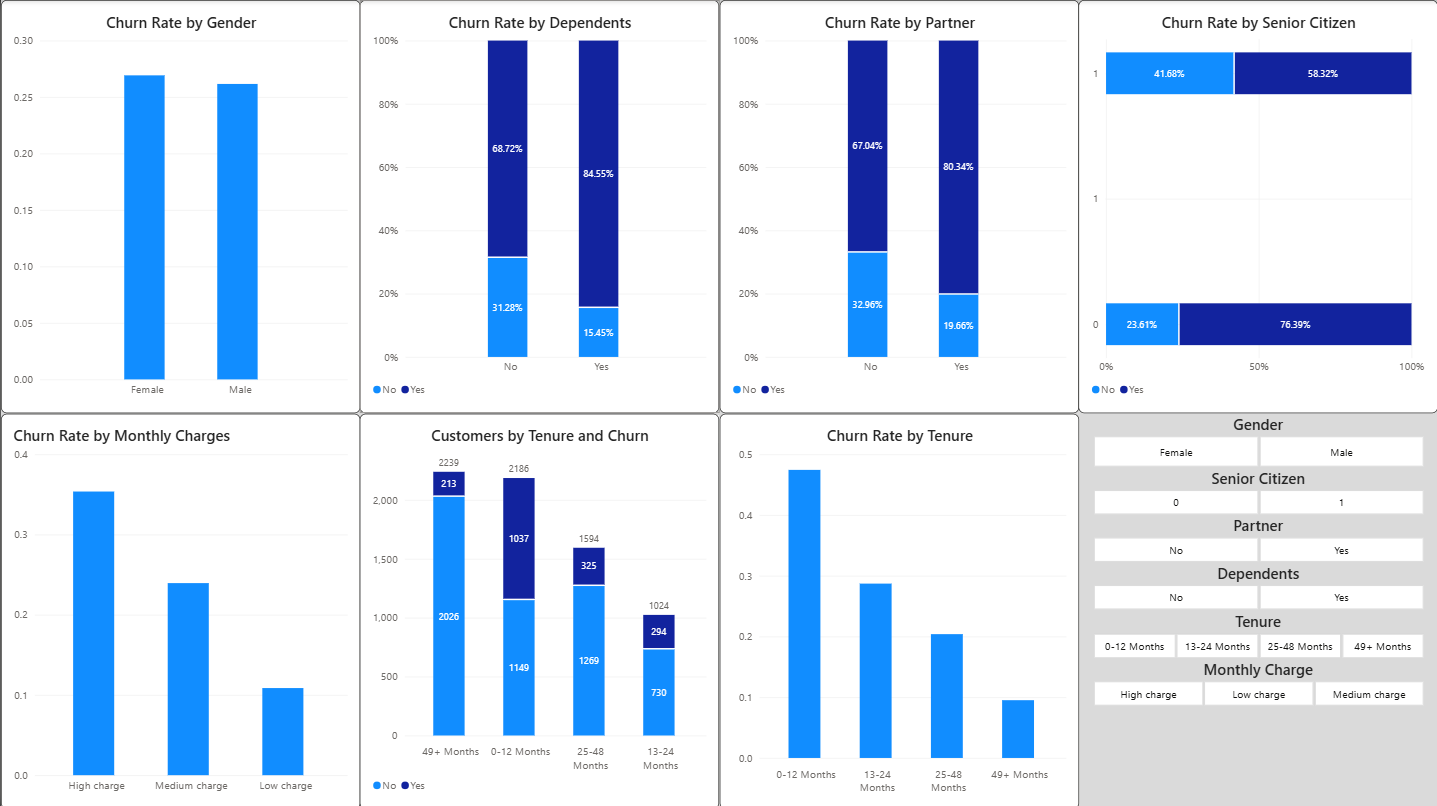

What the dashboard file says about the page in this screenshot:
{"tool":"powerbi","page":{"name":"Customer Segmentation","canvas":[1920,1080],"ordinal":1},"visuals":[{"type":"columnChart","title":"Churn Rate by Gender","fields":{"Category":["dim_customer.gender"],"Y":["customer_churn_features.churn_rate"]},"box":[0,0,480,552],"z":0},{"type":"hundredPercentStackedColumnChart","title":"Churn Rate by Dependents","fields":{"Category":["dim_customer.dependents"],"Series":["customer_churn_features.churn"],"Y":["customer_churn_features.churn_rate"]},"box":[480,0,480,552],"z":1000},{"type":"hundredPercentStackedColumnChart","title":"Churn Rate by Partner","fields":{"Category":["dim_customer.partner"],"Series":["customer_churn_features.churn"],"Y":["customer_churn_features.churn_rate"]},"box":[960,0,480,552],"z":2000},{"type":"hundredPercentStackedBarChart","title":"Churn Rate by Senior Citizen","fields":{"Category":["dim_customer.senior_citizen"],"Series":["customer_churn_features.churn"],"Y":["customer_churn_features.churn_rate"]},"box":[1440,0,480,552],"z":3000},{"type":"clusteredColumnChart","title":"Churn Rate by Monthly Charges","fields":{"Category":["customer_churn_features.monthly_charge_band"],"Y":["customer_churn_features.churn_rate"]},"box":[0,552,480,528],"z":4000},{"type":"clusteredColumnChart","title":"Churn Rate by Tenure","fields":{"Category":["customer_churn_features.tenure_group"],"Y":["customer_churn_features.churn_rate"]},"box":[960,552,480,528],"z":5000},{"type":"columnChart","title":"Customers by Tenure and Churn","fields":{"Category":["customer_churn_features.tenure_group"],"Series":["customer_churn_features.churn"],"Y":["CountNonNull(customer_churn_features.customer_id)"]},"box":[480,552,480,528],"z":6000},{"type":"slicer","title":"Gender","fields":{"Values":["dim_customer.gender"]},"box":[1440,552,480,72],"z":7000},{"type":"slicer","title":"Senior Citizen","fields":{"Values":["dim_customer.senior_citizen"]},"box":[1440,624,480,64],"z":8000},{"type":"slicer","title":"Partner","fields":{"Values":["dim_customer.partner"]},"box":[1440,688,480,64],"z":9000},{"type":"slicer","title":"Dependents","fields":{"Values":["dim_customer.dependents"]},"box":[1440,752,480,64],"z":10000},{"type":"slicer","title":"Tenure","fields":{"Values":["customer_churn_features.tenure_group"]},"box":[1440,816,480,64],"z":11000},{"type":"slicer","title":"Monthly Charge","fields":{"Values":["customer_churn_features.monthly_charge_band"]},"box":[1440,880,480,64],"z":12000}]}

Visuals, with their boxes in screenshot pixels (x1, y1, x2, y2), scaled from the page's 1920x1080 canvas onto the 1437x806 screenshot:
"Churn Rate by Gender" columnChart: x1=0, y1=0, x2=359, y2=412
"Churn Rate by Dependents" hundredPercentStackedColumnChart: x1=359, y1=0, x2=718, y2=412
"Churn Rate by Partner" hundredPercentStackedColumnChart: x1=718, y1=0, x2=1078, y2=412
"Churn Rate by Senior Citizen" hundredPercentStackedBarChart: x1=1078, y1=0, x2=1436, y2=412
"Churn Rate by Monthly Charges" clusteredColumnChart: x1=0, y1=412, x2=359, y2=805
"Churn Rate by Tenure" clusteredColumnChart: x1=718, y1=412, x2=1078, y2=805
"Customers by Tenure and Churn" columnChart: x1=359, y1=412, x2=718, y2=805
"Gender" slicer: x1=1078, y1=412, x2=1436, y2=466
"Senior Citizen" slicer: x1=1078, y1=466, x2=1436, y2=513
"Partner" slicer: x1=1078, y1=513, x2=1436, y2=561
"Dependents" slicer: x1=1078, y1=561, x2=1436, y2=609
"Tenure" slicer: x1=1078, y1=609, x2=1436, y2=657
"Monthly Charge" slicer: x1=1078, y1=657, x2=1436, y2=705
